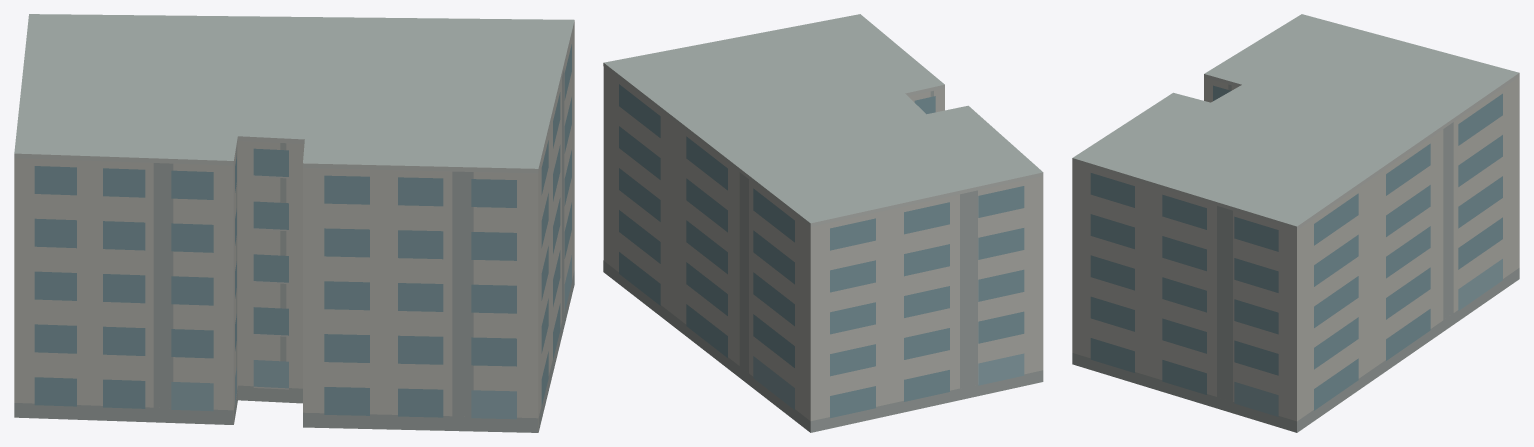
File: survey-upis-32798164.glb
3 renders of one model, left to right at view 1: azimuth 30°, elevation 25°; view 2: azimuth 150°, elevation 25°; view 3: azimuth 270°, elevation 25°, orthographic. The views are drawn at different scales.
Visible parts, largest first — view 1: survey-upis-32798164.tmp; view 2: survey-upis-32798164.tmp; view 3: survey-upis-32798164.tmp.
Part boxes in pixels (x1=…): survey-upis-32798164.tmp: x1=14, y1=14, x2=574, y2=432; survey-upis-32798164.tmp: x1=603, y1=14, x2=1043, y2=432; survey-upis-32798164.tmp: x1=1072, y1=14, x2=1519, y2=432.
Bounding box in the file's own units: 30.6 × 13.85 × 27.21.
